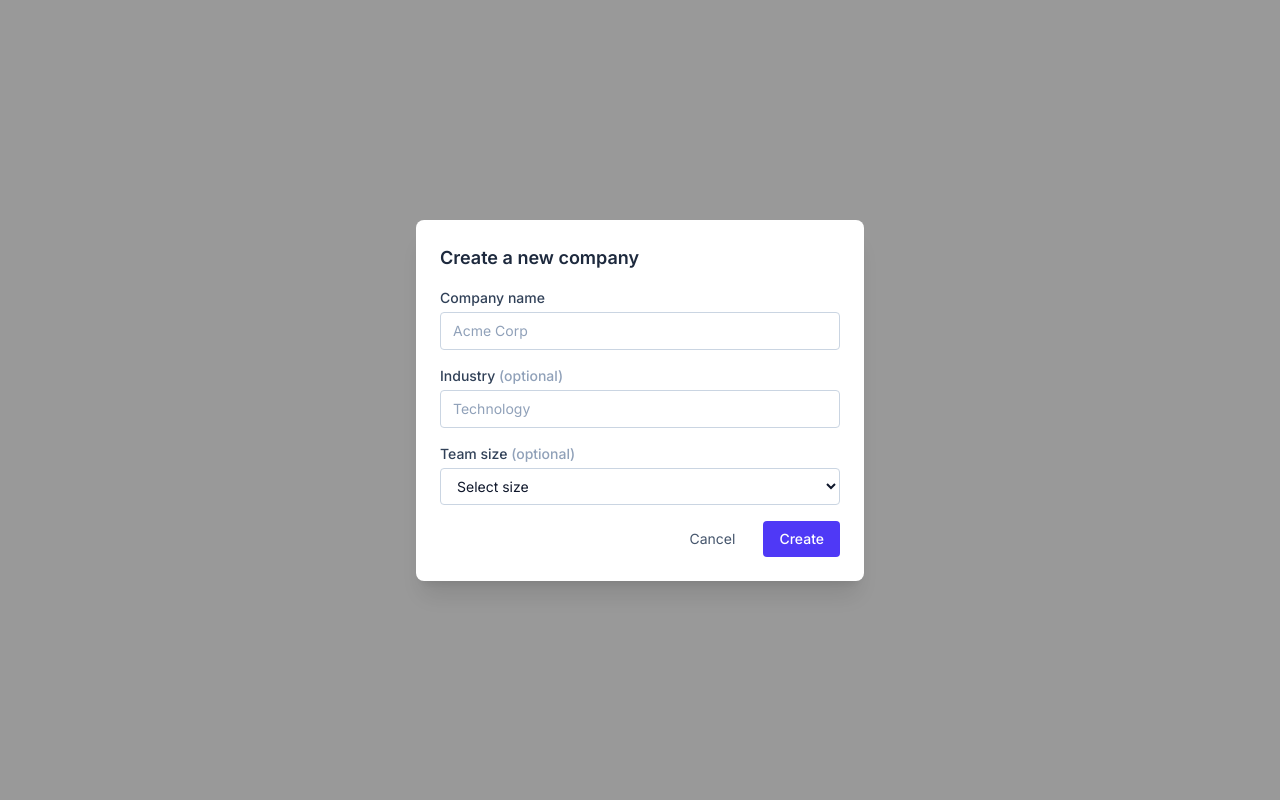
Test case: CreateCompanyModal › stays open and shows error on failure
Type "New Corp" into the field labelled "Company name" at (640, 330), box [440, 312, 840, 350]
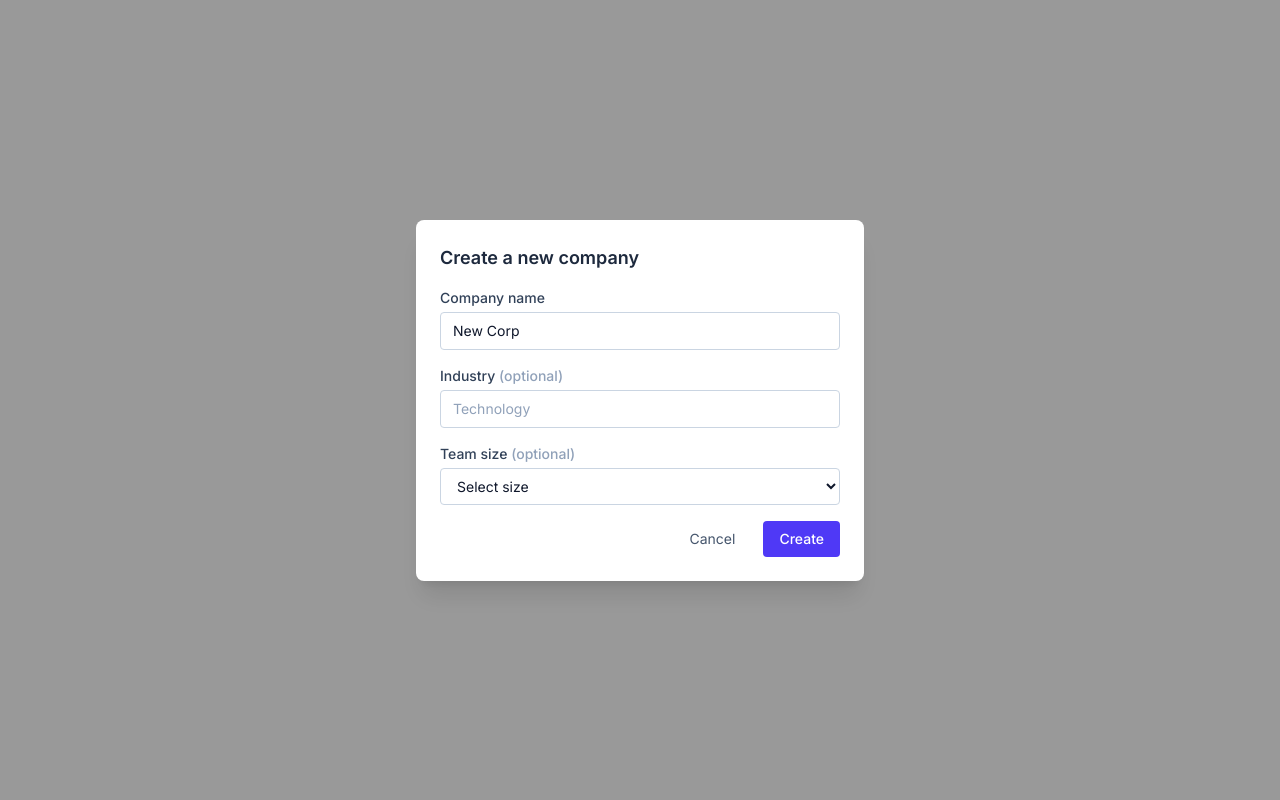
Click the button "Create" at (802, 538), box [763, 520, 840, 556]
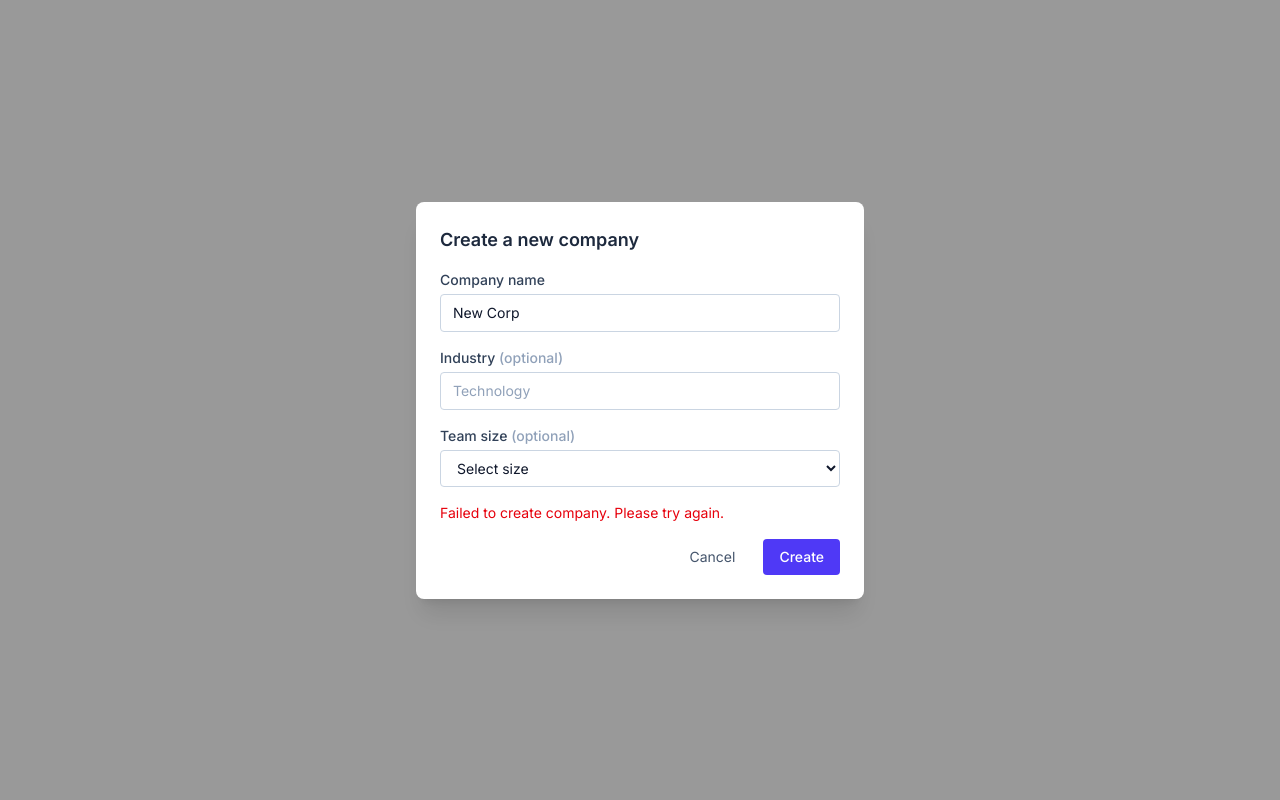
Check: the text "Failed to create company. Please try again." is shown, box [440, 504, 724, 520]
